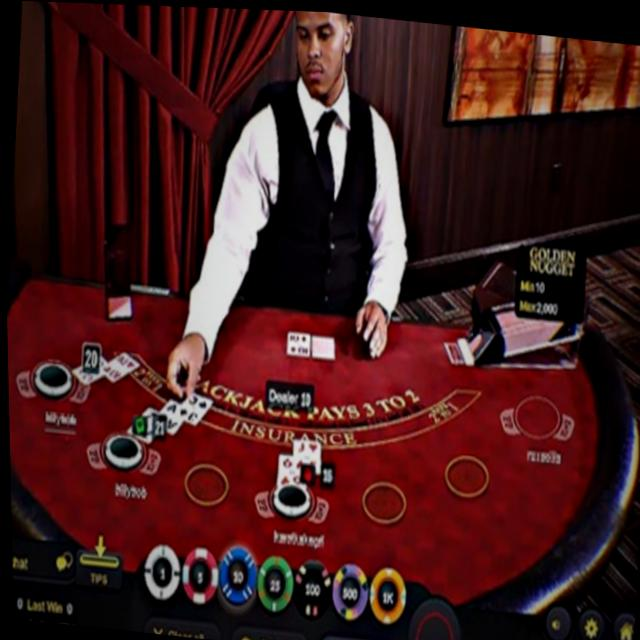Card-10: (285, 329, 308, 353)
Card-3: (173, 388, 211, 424)
Card-6: (275, 451, 305, 491)
Card-A: (98, 349, 137, 383), (153, 397, 182, 437)
Card-J: (290, 436, 318, 471)
